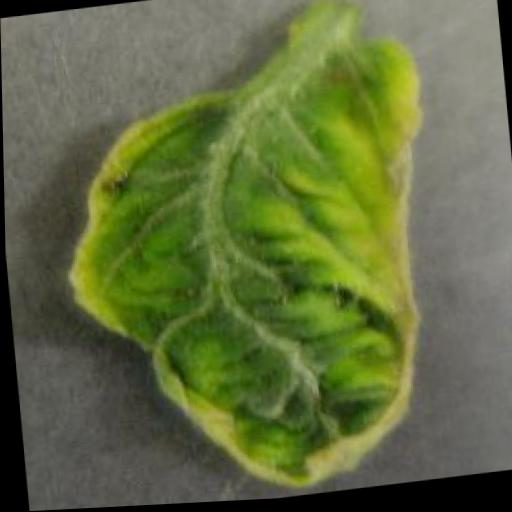Yellow Leaf Curl Virus: (45, 35, 451, 510)
